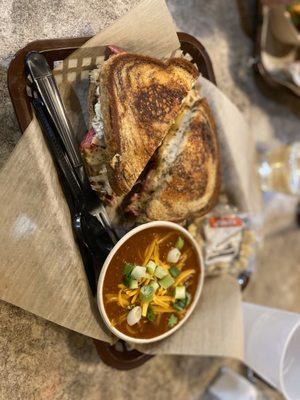sandwich: (23, 50, 119, 258)
soup: (79, 47, 217, 223)
sushi: (97, 220, 206, 346)
